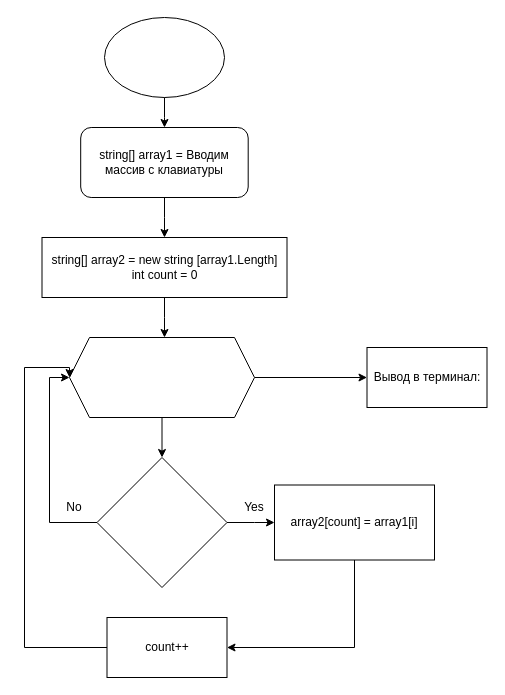
This 505x695 diagram has some shape labels left out. The box of each missing label's shape, as (x1, y1, x2, y2) in pixels:
array1[i].Length <= 3: (96, 456, 227, 588)
i = 0; i < array1.Length; i++: (68, 336, 254, 418)
Start: (104, 16, 224, 98)
